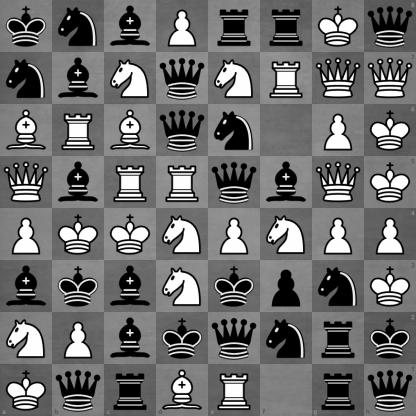B: (156, 364, 209, 416), (1, 105, 52, 156), (105, 105, 156, 156)
K: (364, 156, 416, 209), (0, 364, 52, 416), (364, 104, 416, 156), (364, 260, 416, 312), (53, 209, 104, 260), (105, 209, 156, 260), (313, 1, 364, 52)
N: (1, 313, 52, 364), (105, 53, 156, 104), (157, 209, 208, 260), (157, 261, 208, 312), (209, 53, 260, 104), (261, 209, 312, 260)
P: (364, 209, 416, 260), (1, 209, 52, 260), (53, 313, 104, 364), (157, 1, 208, 52), (209, 209, 260, 260), (313, 105, 364, 156), (313, 209, 364, 260)
Q: (364, 52, 416, 104), (1, 157, 52, 208), (313, 53, 364, 104), (313, 157, 364, 208)
R: (209, 364, 260, 416), (53, 105, 104, 156), (105, 157, 156, 208), (157, 157, 208, 208), (261, 53, 312, 104)
b: (1, 261, 52, 312), (53, 53, 104, 104), (53, 157, 104, 208), (105, 1, 156, 52), (105, 261, 156, 312), (105, 313, 156, 364), (261, 157, 312, 208)
board: (0, 0, 415, 415)
k: (364, 312, 416, 364), (1, 1, 52, 52), (53, 261, 104, 312), (157, 313, 208, 364), (209, 261, 260, 312)
n: (1, 53, 52, 104), (53, 1, 104, 52), (209, 105, 260, 156), (261, 313, 312, 364), (313, 261, 364, 312)
p: (261, 261, 312, 312)
q: (52, 364, 104, 416), (364, 0, 416, 52), (364, 364, 416, 416), (157, 53, 208, 104), (157, 105, 208, 156), (209, 157, 260, 208), (209, 313, 260, 364)
r: (104, 364, 156, 416), (312, 364, 364, 416), (209, 1, 260, 52), (261, 1, 312, 52), (313, 313, 364, 364)
